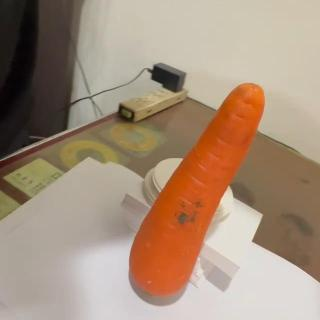carrot: (127, 81, 265, 297)
